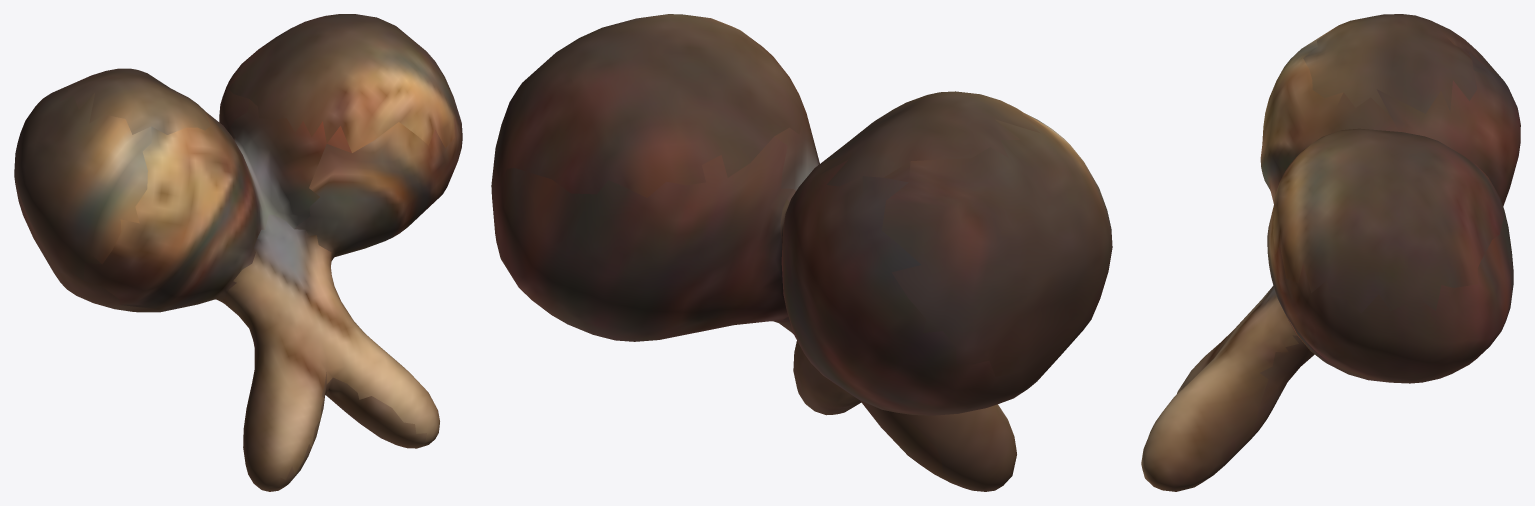
File: v12_maracas.glb
3 renders of one model, left to right at view 1: azimuth 30°, elevation 25°; view 2: azimuth 150°, elevation 25°; view 3: azimuth 270°, elevation 25°, orthographic. The views are drawn at different scales.
Parts seen in each view (by area): view 1: v12_maracas; view 2: v12_maracas; view 3: v12_maracas.
Boxes of the visible parts, <box> form: v12_maracas: <box>14,14,462,491</box>; v12_maracas: <box>491,14,1112,491</box>; v12_maracas: <box>1141,14,1520,491</box>.
Size of the model in its own units: 0.4667 by 0.3838 by 0.3385.
1 material, 1 textured.
